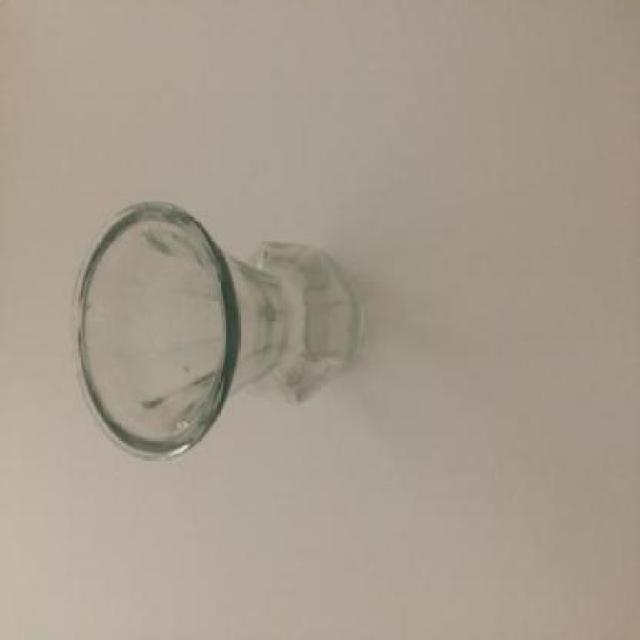kaca: (72, 198, 365, 460)
